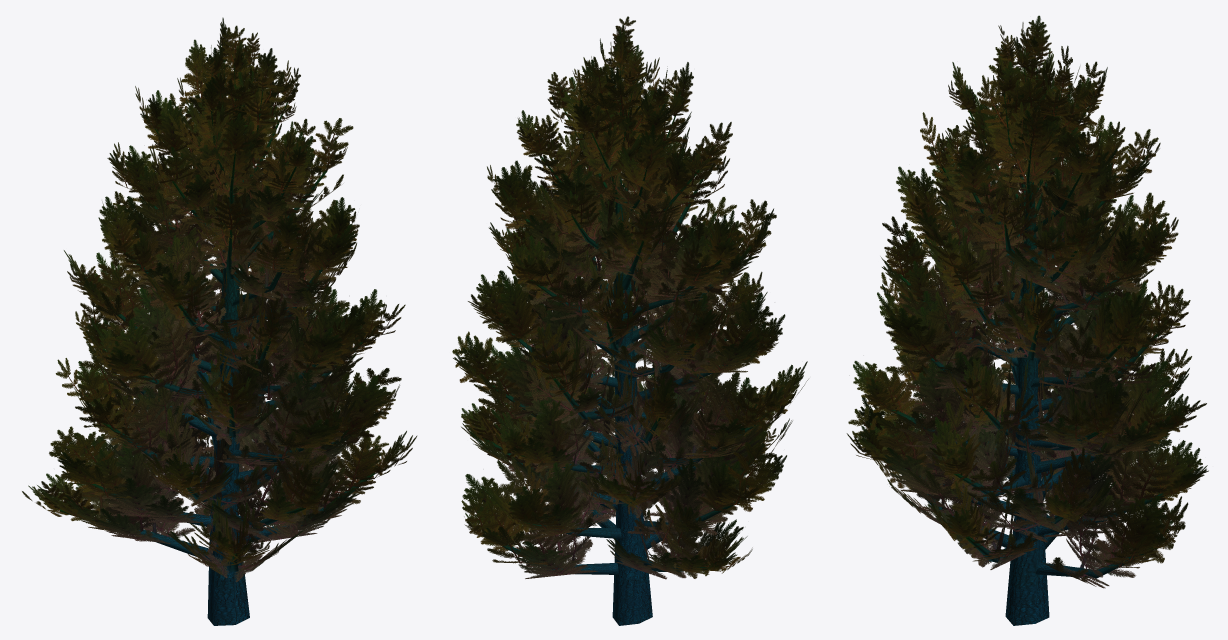
The model's file is Picea_Abies_B.glb.
3 renders of one model, left to right at view 1: azimuth 30°, elevation 25°; view 2: azimuth 150°, elevation 25°; view 3: azimuth 270°, elevation 25°, orthographic.
Parts seen in each view (by area): view 1: B_LOD0; view 2: B_LOD0; view 3: B_LOD0.
Boxes of the visible parts, x1,y1,x2,y2 form: B_LOD0: [22, 17, 417, 625]; B_LOD0: [452, 16, 808, 625]; B_LOD0: [846, 15, 1208, 625].
Size of what is drawn, in the model's own units: 6.72 by 11.99 by 6.64.
2 materials, 2 textured.
